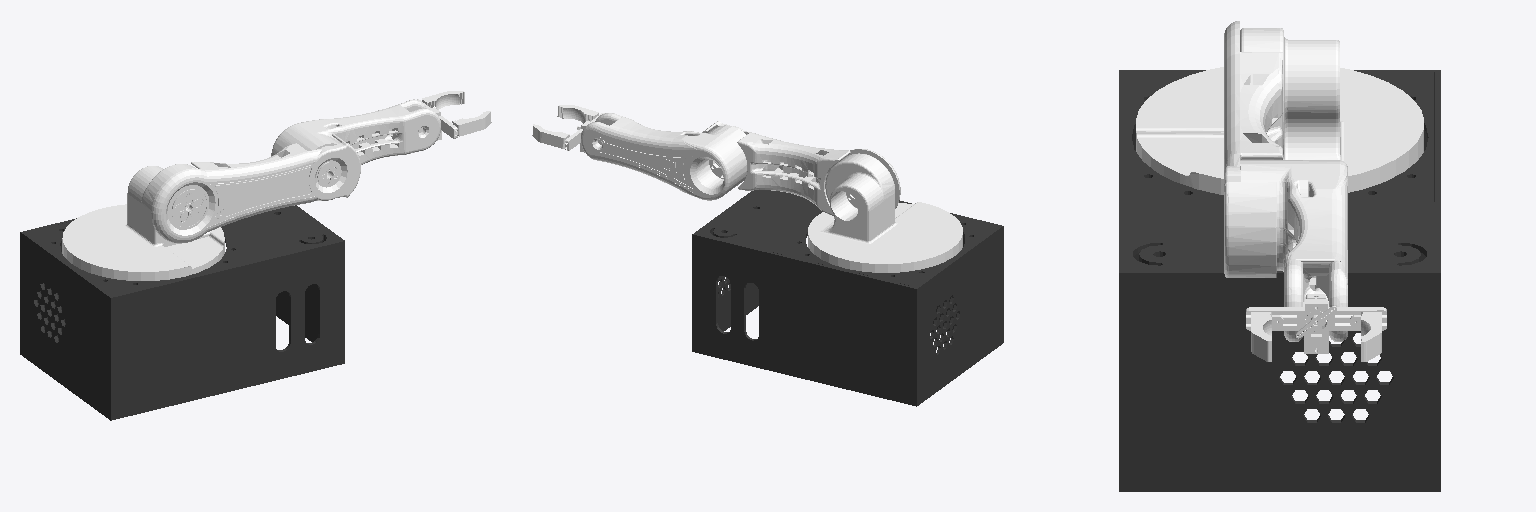
robot.urdf — Ensamblajev12_6:
<?xml version="1.0" encoding="utf-8"?>
<!-- This URDF was automatically created by SolidWorks to URDF Exporter! Originally created by Stephen Brawner (brawner@gmail.com) 
     Commit Version: 1.6.0-4-g7f85cfe  Build Version: 1.6.7995.38578
     For more information, please see http://wiki.ros.org/sw_urdf_exporter -->
<robot
  name="Ensamblajev12_6">
  <link name="world"/>
  <joint name="world_to_base" type="fixed">
    <parent link="world"/>
    <child link="base_link"/>
    <origin xyz="0 0 0" rpy="-1.5708 0 0"/>
  </joint>
  <link
    name="base_link">
    <inertial>
      <origin
        xyz="0.14769 -0.092824 0.09895"
        rpy="0 0 0" />
      <mass
        value="5" />
      <inertia
        ixx="0.0061943"
        ixy="0.00034463"
        ixz="-2.711E-05"
        iyy="0.013162"
        iyz="9.2508E-06"
        izz="0.010154" />
    </inertial>
    <visual>
      <origin
        xyz="0 0 0"
        rpy="0 0 0" />
      <geometry>
        <mesh
          filename="package://asse12/meshes/visual/base_link.STL" />
      </geometry>
      <material
        name="">
        <color
          rgba="0.29804 0.29804 0.29804 1" />
      </material>
    </visual>
    <collision>
      <origin
        xyz="0 0 0"
        rpy="0 0 0" />
      <geometry>
        <mesh
          filename="package://asse12/meshes/visual/base_link.STL" />
      </geometry>
    </collision>
  </link>
  <link
    name="B1">
    <inertial>
      <origin
        xyz="0.0050893 0.0028829 0.020526"
        rpy="0 0 0" />
      <mass
        value="0.2" />
      <inertia
        ixx="0.0011773"
        ixy="-3.3249E-05"
        ixz="-0.00011396"
        iyy="0.0012987"
        iyz="-2.1578E-05"
        izz="0.0019641" />
    </inertial>
    <visual>
      <origin
        xyz="0 0 0"
        rpy="0 0 0" />
      <geometry>
        <mesh
          filename="package://asse12/meshes/visual/B1.STL" />
      </geometry>
      <material
        name="">
        <color
          rgba="1 1 1 1" />
      </material>
    </visual>
    <collision>
      <origin
        xyz="0 0 0"
        rpy="0 0 0" />
      <geometry>
        <mesh
          filename="package://asse12/meshes/visual/B1.STL" />
      </geometry>
    </collision>
  </link>
  <joint
    name="J1"
    type="continuous">
    <origin
      xyz="0.099806 -0.135 0.10018"
      rpy="1.5708 -0.0014338 0" />
    <parent
      link="base_link" />
    <child
      link="B1" />
    <axis
      xyz="0 0 1" />
  </joint>
  <link
    name="A1">
    <inertial>
      <origin
        xyz="0.084043 0.00053774 0.011617"
        rpy="0 0 0" />
      <mass
        value="0.15" />
      <inertia
        ixx="0.00014704"
        ixy="-6.8149E-06"
        ixz="-3.9771E-06"
        iyy="0.0013021"
        iyz="-1.488E-07"
        izz="0.0013966" />
    </inertial>
    <visual>
      <origin
        xyz="0 0 0"
        rpy="0 0 0" />
      <geometry>
        <mesh
          filename="package://asse12/meshes/visual/A1.STL" />
      </geometry>
      <material
        name="">
        <color
          rgba="1 1 1 1" />
      </material>
    </visual>
    <collision>
      <origin
        xyz="0 0 0"
        rpy="0 0 0" />
      <geometry>
        <mesh
          filename="package://asse12/meshes/visual/A1.STL" />
      </geometry>
    </collision>
  </link>
  <joint
    name="J2"
    type="continuous">
    <origin
      xyz="0.04 -0.032 0.065"
      rpy="-1.5708 0 -0.0014338" />
    <parent
      link="B1" />
    <child
      link="A1" />
    <axis
      xyz="-0.0014338 0 1" />
  </joint>
  <link
    name="A2">
    <inertial>
      <origin
        xyz="0.0040691 0.05438 0.044947"
        rpy="0 0 0" />
      <mass
        value="0.1" />
      <inertia
        ixx="0.00089175"
        ixy="-3.5921E-05"
        ixz="-1.9369E-06"
        iyy="0.00015707"
        iyz="-3.9437E-05"
        izz="0.00093244" />
    </inertial>
    <visual>
      <origin
        xyz="0 0 0"
        rpy="0 0 0" />
      <geometry>
        <mesh
          filename="package://asse12/meshes/visual/A2.STL" />
      </geometry>
      <material
        name="">
        <color
          rgba="1 1 1 1" />
      </material>
    </visual>
    <collision>
      <origin
        xyz="0 0 0"
        rpy="0 0 0" />
      <geometry>
        <mesh
          filename="package://asse12/meshes/visual/A2.STL" />
      </geometry>
    </collision>
  </link>
  <joint
    name="J3"
    type="continuous">
    <origin
      xyz="0.17997 0.0027028 0.0072582"
      rpy="0.0014338 -1.051E-05 -1.5635" />
    <parent
      link="A1" />
    <child
      link="A2" />
    <axis
      xyz="0 0 1" />
  </joint>
  <link
    name="G1">
    <inertial>
      <origin
        xyz="-0.006216 0.0025049 0.0077751"
        rpy="0 0 0" />
      <mass
        value="0.005" />
      <inertia
        ixx="1.0619E-09"
        ixy="-5.2811E-10"
        ixz="-1.0382E-11"
        iyy="1.8409E-08"
        iyz="2.1736E-11"
        izz="1.7847E-08" />
    </inertial>
    <visual>
      <origin
        xyz="0 0 0"
        rpy="0 0 0" />
      <geometry>
        <mesh
          filename="package://asse12/meshes/visual/G1.STL" />
      </geometry>
      <material
        name="">
        <color
          rgba="1 1 1 1" />
      </material>
    </visual>
    <collision>
      <origin
        xyz="0 0 0"
        rpy="0 0 0" />
      <geometry>
        <mesh
          filename="package://asse12/meshes/visual/G1.STL" />
      </geometry>
    </collision>
  </link>
  <joint
    name="J4"
    type="fixed">
    <origin
      xyz="-0.00025 0.16894 0.047"
      rpy="-3.1416 0.89637 -3.1416" />
    <parent
      link="A2" />
    <child
      link="G1" />
    <axis
      xyz="0 1 0" />
    <limit
      lower="0"
      upper="0"
      effort="0"
      velocity="0" />
  </joint>
  <link
    name="g11">
    <inertial>
      <origin
        xyz="-0.00056573 0.013666 -0.010485"
        rpy="0 0 0" />
      <mass
        value="0.001" />
      <inertia
        ixx="1.3061E-06"
        ixy="4.6516E-08"
        ixz="-5.928E-10"
        iyy="1.8437E-07"
        iyz="1.4324E-08"
        izz="1.32E-06" />
    </inertial>
    <visual>
      <origin
        xyz="0 0 0"
        rpy="0 0 0" />
      <geometry>
        <mesh
          filename="package://asse12/meshes/visual/g11.STL" />
      </geometry>
      <material
        name="">
        <color
          rgba="1 1 1 1" />
      </material>
    </visual>
    <collision>
      <origin
        xyz="0 0 0"
        rpy="0 0 0" />
      <geometry>
        <mesh
          filename="package://asse12/meshes/visual/g11.STL" />
      </geometry>
    </collision>
  </link>
  <joint
    name="g1"
    type="prismatic">
    <origin
      xyz="-0.025731 0.0086004 -0.0071255"
      rpy="0.0091681 0.89634 0.011738" />
    <parent
      link="G1" />
    <child
      link="g11" />
    <axis
      xyz="0 0 1" />
    <limit
      lower="-0.01"
      upper="0.02"
      effort="10"
      velocity="1" />
  </joint>
  <link
    name="g12">
    <inertial>
      <origin
        xyz="-0.00056572 0.013666 0.010485"
        rpy="0 0 0" />
      <mass
        value="0.001" />
      <inertia
        ixx="1.3061E-06"
        ixy="4.6515E-08"
        ixz="5.931E-10"
        iyy="1.8437E-07"
        iyz="-1.4324E-08"
        izz="1.32E-06" />
    </inertial>
    <visual>
      <origin
        xyz="0 0 0"
        rpy="0 0 0" />
      <geometry>
        <mesh
          filename="package://asse12/meshes/visual/g12.STL" />
      </geometry>
      <material
        name="">
        <color
          rgba="1 1 1 1" />
      </material>
    </visual>
    <collision>
      <origin
        xyz="0 0 0"
        rpy="0 0 0" />
      <geometry>
        <mesh
          filename="package://asse12/meshes/visual/g12.STL" />
      </geometry>
    </collision>
  </link>
  <joint
    name="g2"
    type="prismatic">
    <origin
      xyz="0.012167 0.0085931 0.023365"
      rpy="0.0091681 0.89634 0.011738" />
    <parent
      link="G1" />
    <child
      link="g12" />
    <axis
      xyz="0 0 -1" />
    <limit
      lower="-0.01"
      upper="0.025"
      effort="10"
      velocity="1" />
    <mimic
      joint="g1"
      multiplier="1"
      offset="0" />
  </joint>

  <!-- ros2_control plugin for Gazebo -->
  <ros2_control name="GazeboSystem" type="system">
    <hardware>
      <plugin>gz_ros2_control/GazeboSimSystem</plugin>
    </hardware>
    <joint name="J1">
      <command_interface name="position"/>
      <state_interface name="position"><param name="initial_value">0.0</param></state_interface>
      <state_interface name="velocity"/>
    </joint>
    <joint name="J2">
      <command_interface name="position"/>
      <state_interface name="position"><param name="initial_value">0.0</param></state_interface>
      <state_interface name="velocity"/>
    </joint>
    <joint name="J3">
      <command_interface name="position"/>
      <state_interface name="position"><param name="initial_value">0.0</param></state_interface>
      <state_interface name="velocity"/>
    </joint>
  </ros2_control>

  <!-- Gazebo plugin to load ros2_control -->
  <gazebo>
    <plugin filename="gz_ros2_control-system" name="gz_ros2_control::GazeboSimROS2ControlPlugin">
      <parameters>/home/arlo/Ros_projects/Ros2/ass12/install/asse12/share/asse12/config/controllers.yaml</parameters>
    </plugin>
  </gazebo>
</robot>

--- Render facts (derived) ---
Views: 3 orthographic renders of the robot side by side, from view 1: azimuth 30°, elevation 25°; view 2: azimuth 150°, elevation 25°; view 3: azimuth 270°, elevation 25°.
Robot: Ensamblajev12_6 — 8 links, 7 joints (3 continuous, 2 prismatic, 2 fixed); root link world; default pose: all joints at 0.
Links seen in each view (by area): view 1: base_link, A1, B1, A2, g12, g11; view 2: base_link, B1, A2, A1; view 3: base_link, B1, A2, A1, g11, g12.
Link boxes in pixels (x1=…): base_link: x1=20, y1=205, x2=344, y2=420; A1: x1=151, y1=134, x2=360, y2=243; B1: x1=62, y1=164, x2=224, y2=280; A2: x1=271, y1=99, x2=457, y2=200; g12: x1=452, y1=111, x2=491, y2=136; g11: x1=422, y1=91, x2=464, y2=109; base_link: x1=692, y1=190, x2=1003, y2=406; B1: x1=808, y1=153, x2=962, y2=272; A2: x1=565, y1=113, x2=746, y2=200; A1: x1=702, y1=121, x2=900, y2=215; base_link: x1=1119, y1=70, x2=1440, y2=491; B1: x1=1136, y1=28, x2=1423, y2=194; A2: x1=1240, y1=160, x2=1386, y2=353; A1: x1=1224, y1=21, x2=1282, y2=277; g11: x1=1350, y1=312, x2=1381, y2=361; g12: x1=1251, y1=312, x2=1283, y2=361.
Size in the robot's own frame: 0.5409 by 0.2002 by 0.2445 metres.
Meshes: 7 distinct files referenced, 7 mesh visuals loaded (7 binary STL).
